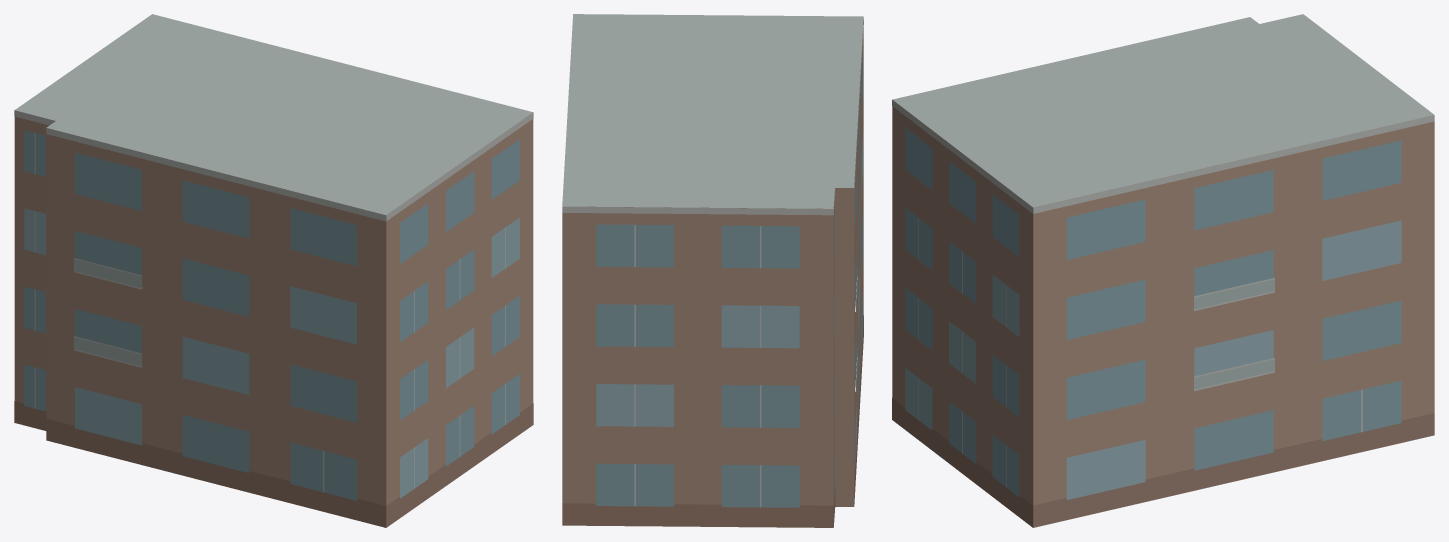
The model's file is survey-upis-32882517.glb.
3 views of the same model, side by side, from view 1: azimuth 30°, elevation 25°; view 2: azimuth 150°, elevation 25°; view 3: azimuth 270°, elevation 25° (orthographic). The views are drawn at different scales.
Visible parts, largest first — view 1: survey-upis-32882517.tmp; view 2: survey-upis-32882517.tmp; view 3: survey-upis-32882517.tmp.
Part boxes in pixels (bbox=[...]): survey-upis-32882517.tmp: bbox=[14, 14, 533, 527]; survey-upis-32882517.tmp: bbox=[562, 14, 863, 527]; survey-upis-32882517.tmp: bbox=[892, 14, 1434, 527].
Bounding box in the file's own units: 15.82 × 12.2 × 18.73.
